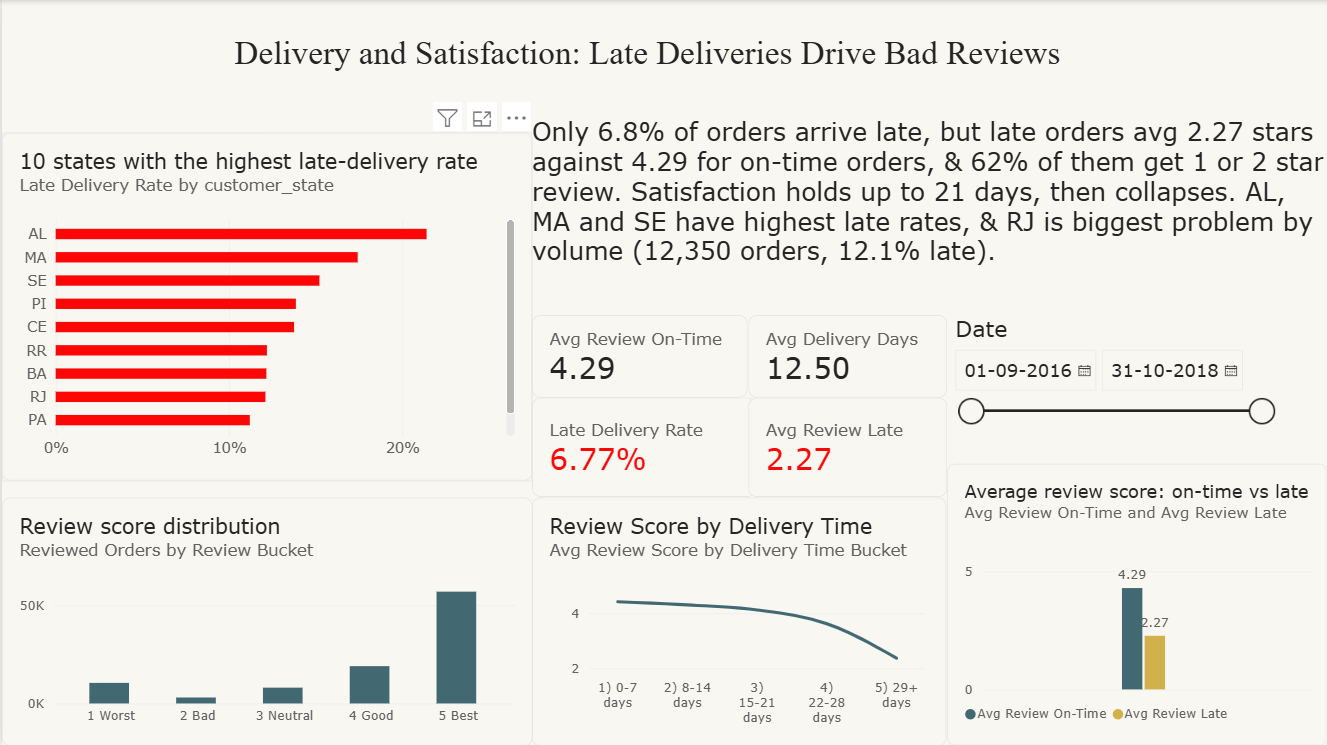

What the dashboard file says about the page in this screenshot:
{"tool":"powerbi","page":{"name":"Delivery","canvas":[1280,720],"ordinal":1},"visuals":[{"type":"slicer","fields":{"Values":["Calendar.Date"]},"box":[912,304,320,144],"z":0},{"type":"cardVisual","fields":{"Data":["order_summary.Late Delivery Rate"]},"box":[512,384,216,96],"z":1000},{"type":"cardVisual","fields":{"Data":["order_summary.Avg Delivery Days"]},"box":[720,304,192,80],"z":2000},{"type":"cardVisual","fields":{"Data":["order_summary.Avg Review On-Time"]},"box":[512,304,208,80],"z":3000},{"type":"cardVisual","fields":{"Data":["order_summary.Avg Review Late"]},"box":[720,384,192,96],"z":4000},{"type":"clusteredColumnChart","title":"Average review score: on-time vs late","fields":{"Y":["order_summary.Avg Review On-Time","order_summary.Avg Review Late"]},"box":[912,448,368,272],"z":5000},{"type":"lineChart","title":"Review Score by Delivery Time","fields":{"Category":["order_summary.Delivery Time Bucket"],"Y":["order_summary.Avg Review Score"]},"box":[512,480,400,240],"z":6000},{"type":"clusteredBarChart","title":"10 states with the highest late-delivery rate","fields":{"Category":["order_summary.customer_state"],"Y":["order_summary.Late Delivery Rate"]},"box":[0,128,512,336],"z":7000},{"type":"clusteredColumnChart","title":"Review score distribution","fields":{"Category":["order_summary.Review Bucket"],"Y":["order_summary.Reviewed Orders"]},"box":[0,480,512,240],"z":8000},{"type":"textbox","box":[224,32,816,96],"z":9000},{"type":"textbox","box":[512,112,768,176],"z":10000}]}

Visuals, with their boxes in screenshot pixels (x1, y1, x2, y2), scaled from the page's 1280x720 canvas onto the 1327x745 screenshot:
slicer - Calendar.Date: 945/315/1277/464
cardVisual - order_summary.Late Delivery Rate: 531/397/755/497
cardVisual - order_summary.Avg Delivery Days: 746/315/945/397
cardVisual - order_summary.Avg Review On-Time: 531/315/746/397
cardVisual - order_summary.Avg Review Late: 746/397/945/497
"Average review score: on-time vs late" clusteredColumnChart: 945/464/1326/744
"Review Score by Delivery Time" lineChart: 531/497/945/744
"10 states with the highest late-delivery rate" clusteredBarChart: 0/132/531/480
"Review score distribution" clusteredColumnChart: 0/497/531/744
textbox: 232/33/1078/132
textbox: 531/116/1326/298
